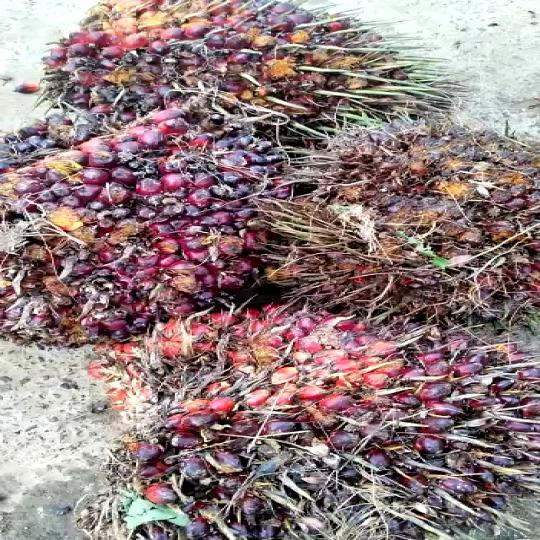masak: (73, 326, 540, 540), (0, 81, 281, 346), (0, 106, 290, 334), (50, 4, 466, 140)
